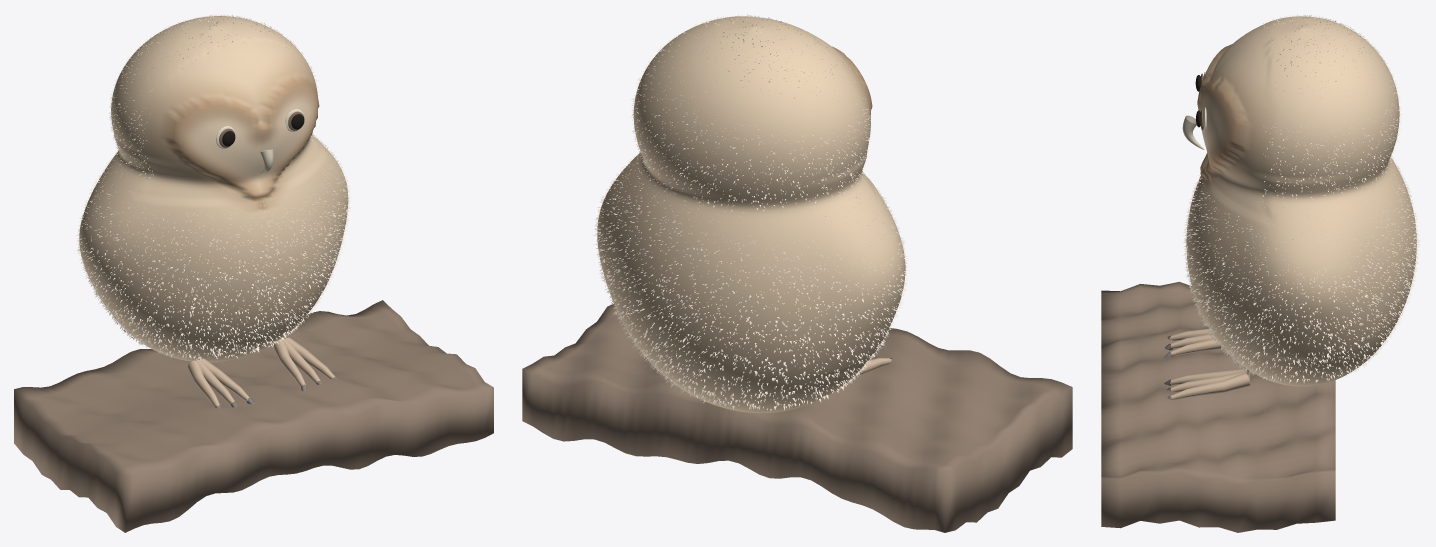
Rendered from owl172_run85_organic_integrated_face_ART_PENDING.glb.
3 views of the same model, side by side, from view 1: azimuth 30°, elevation 25°; view 2: azimuth 150°, elevation 25°; view 3: azimuth 270°, elevation 25° (orthographic). The views are drawn at different scales.
Parts seen in each view (by area): view 1: one continuous organic juvenile loft, solid eroded mature eucalyptus hollow ledge, curved second-down filament batch 2, curved second-down filament batch 0, curved second-down filament batch 4, curved second-down filament batch 1, curved second-down filament batch 3; view 2: one continuous organic juvenile loft, solid eroded mature eucalyptus hollow ledge, curved second-down filament batch 4, curved second-down filament batch 0, curved second-down filament batch 1, curved second-down filament batch 2, curved second-down filament batch 3; view 3: one continuous organic juvenile loft, solid eroded mature eucalyptus hollow ledge, curved second-down filament batch 1, curved second-down filament batch 4, curved second-down filament batch 2, curved second-down filament batch 3, curved second-down filament batch 0, short juvenile toe 1_2, short juvenile toe -1_2, short juvenile toe 1_0, short juvenile toe 1_1.
Boxes of the visible parts, x1,y1,x2,y2 form: one continuous organic juvenile loft: (79,16,348,362); solid eroded mature eucalyptus hollow ledge: (14,300,493,532); curved second-down filament batch 2: (76,14,349,358); curved second-down filament batch 0: (77,14,350,359); curved second-down filament batch 4: (77,15,350,358); curved second-down filament batch 1: (77,15,350,360); curved second-down filament batch 3: (77,14,350,358); one continuous organic juvenile loft: (597,16,905,412); solid eroded mature eucalyptus hollow ledge: (522,304,1072,532); curved second-down filament batch 4: (595,15,906,410); curved second-down filament batch 0: (594,16,907,408); curved second-down filament batch 1: (595,14,907,409); curved second-down filament batch 2: (595,15,907,409); curved second-down filament batch 3: (593,15,908,411); one continuous organic juvenile loft: (1186,16,1416,386); solid eroded mature eucalyptus hollow ledge: (1101,281,1335,532); curved second-down filament batch 1: (1184,15,1418,382); curved second-down filament batch 4: (1183,15,1419,382); curved second-down filament batch 2: (1183,15,1419,382); curved second-down filament batch 3: (1183,14,1420,381); curved second-down filament batch 0: (1184,14,1419,380); short juvenile toe 1_2: (1170,372,1249,399); short juvenile toe -1_2: (1170,338,1222,356); short juvenile toe 1_0: (1170,369,1249,384); short juvenile toe 1_1: (1170,370,1247,391).
Size of the model in its own units: 2.24 by 2.31 by 1.6.
